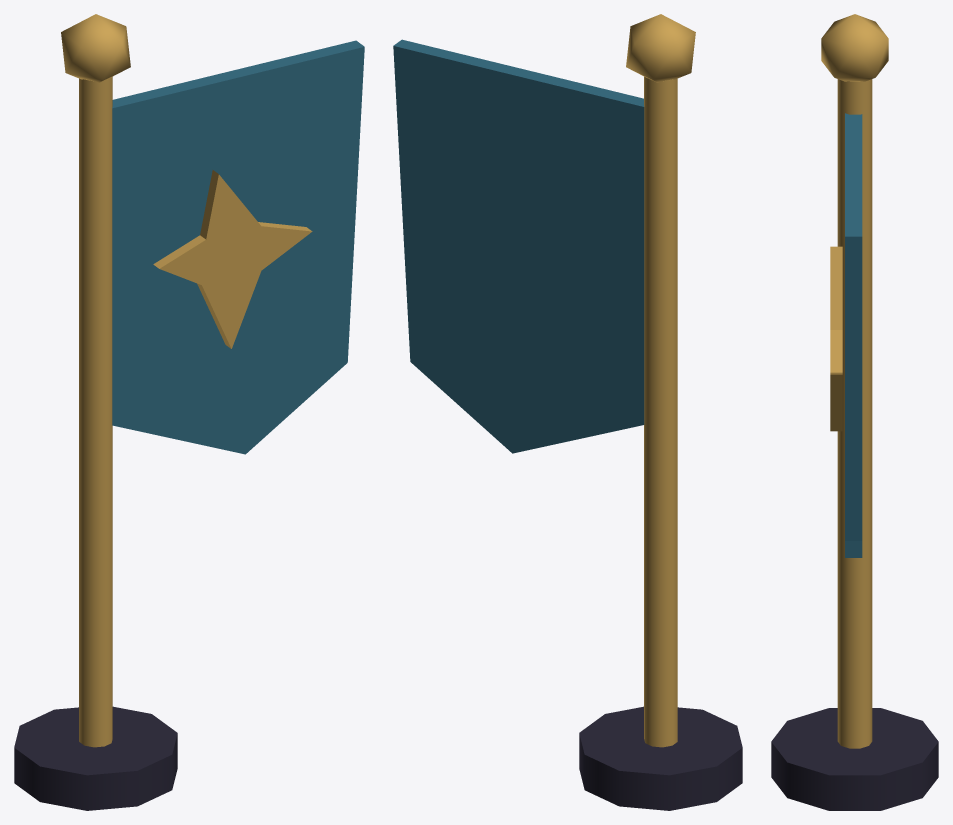
File: banner_party.fbx
3 renders of one model, left to right at view 1: azimuth 30°, elevation 25°; view 2: azimuth 150°, elevation 25°; view 3: azimuth 270°, elevation 25°, orthographic.
Parts seen in each view (by area): view 1: banner_party; view 2: banner_party; view 3: banner_party.
Part boxes in pixels (box(x1,y1,x2,y2)): banner_party: box(14, 14, 364, 810); banner_party: box(393, 14, 742, 810); banner_party: box(771, 14, 938, 810).
Bounding box in the file's own units: 0.7817 × 1.71 × 0.34.
